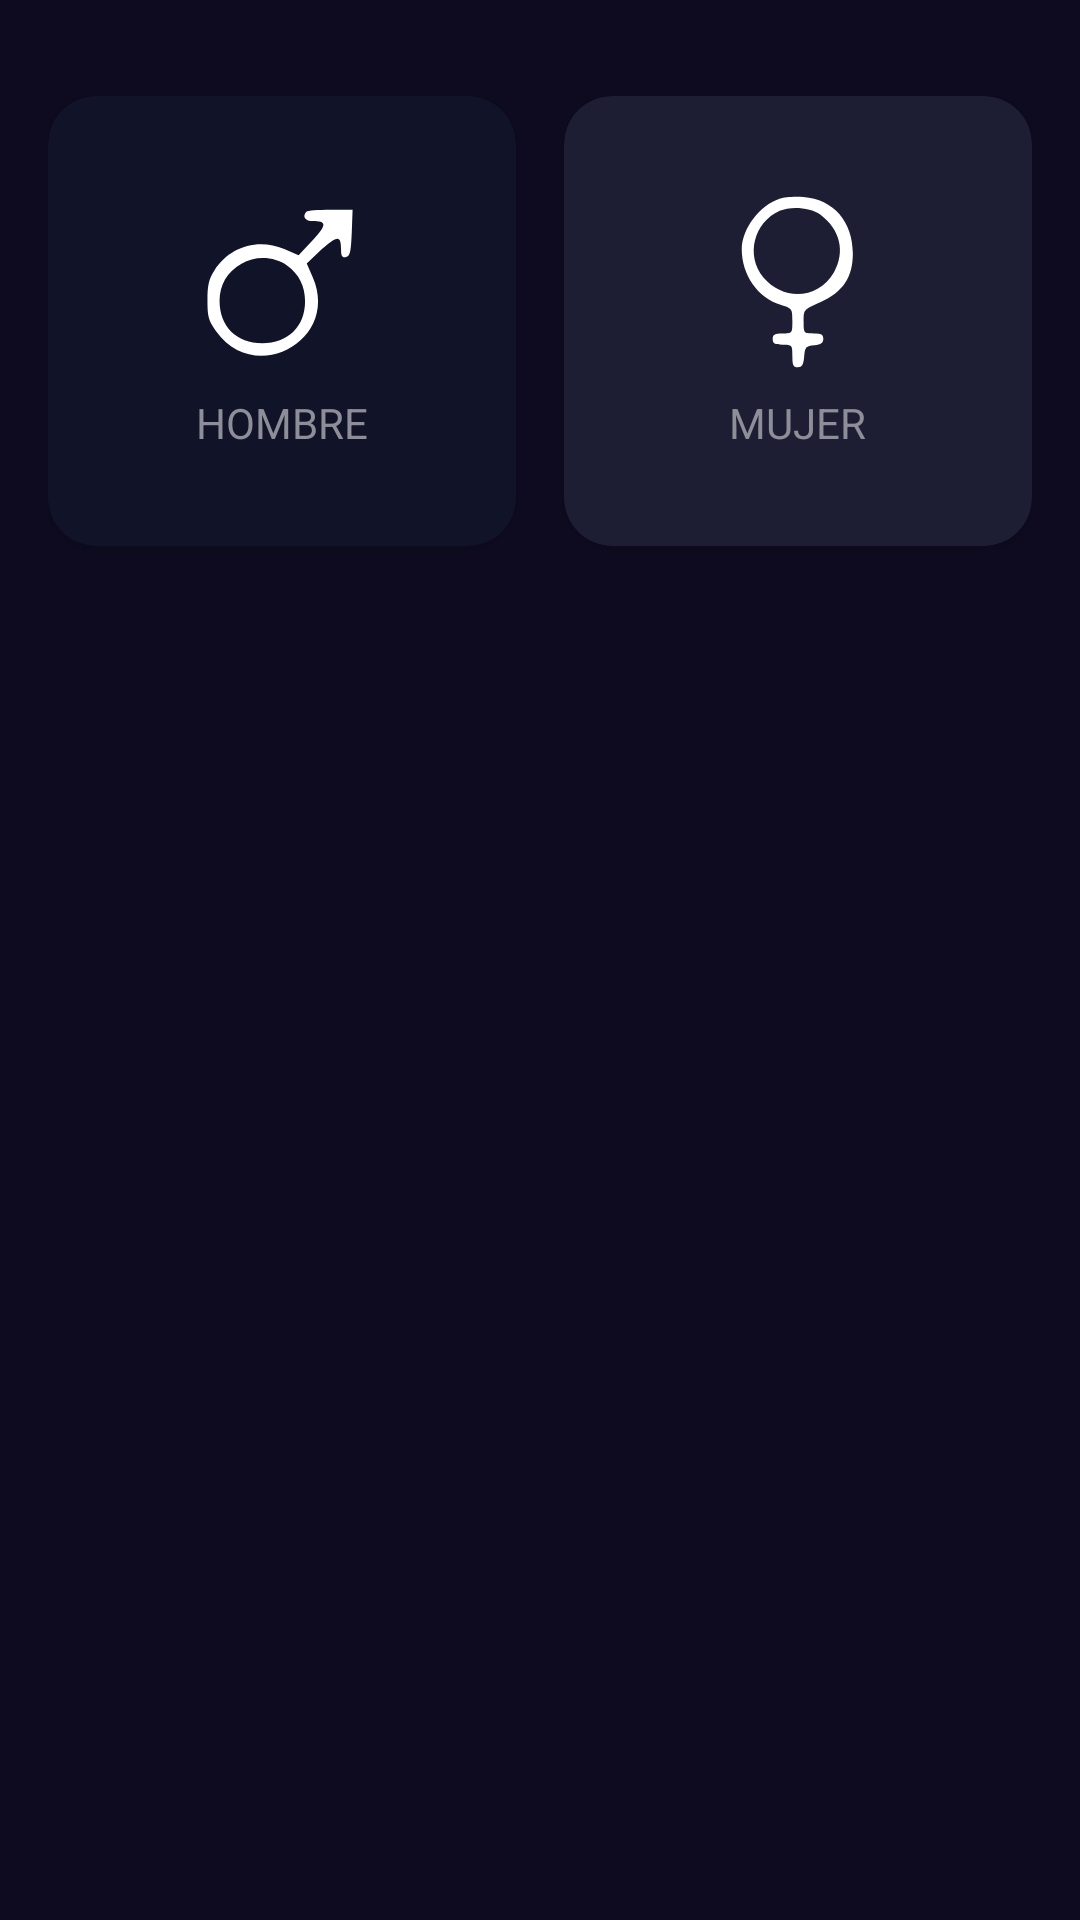

Named icons in this screenshot (1080×1920) and their bounding boxes, (x1, y1, x2, y2):
male: (207, 209, 353, 356)
